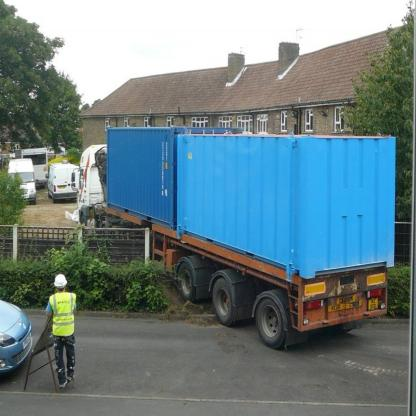Car: (1, 300, 34, 375)
